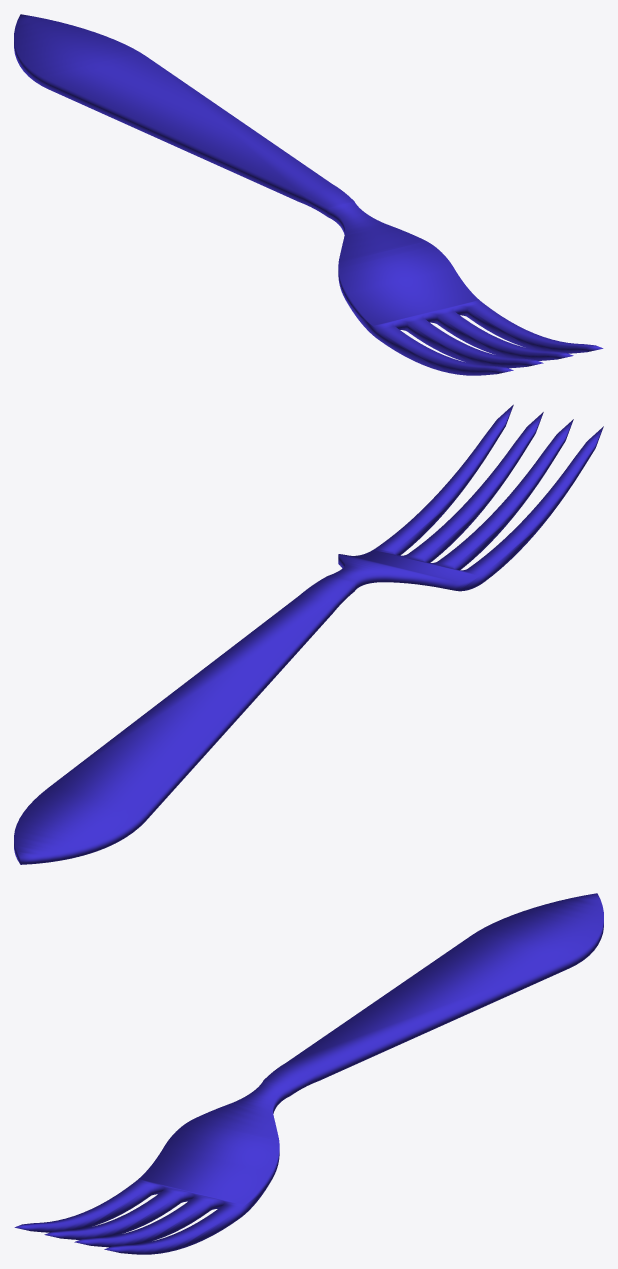
The model's file is fork.dae.
The picture shows the model from 3 angles, top to bottom: view 1: azimuth 30°, elevation 25°; view 2: azimuth 150°, elevation 25°; view 3: azimuth 330°, elevation 25°; orthographic projection.
Visible parts, largest first — view 1: group_0; view 2: group_0; view 3: group_0.
Boxes of the visible parts, x1=… form: group_0: x1=14, y1=14, x2=603, y2=375; group_0: x1=14, y1=404, x2=603, y2=864; group_0: x1=14, y1=893, x2=603, y2=1254.
Bounding box in the file's own units: 0.0189 × 0.1654 × 0.0102.
